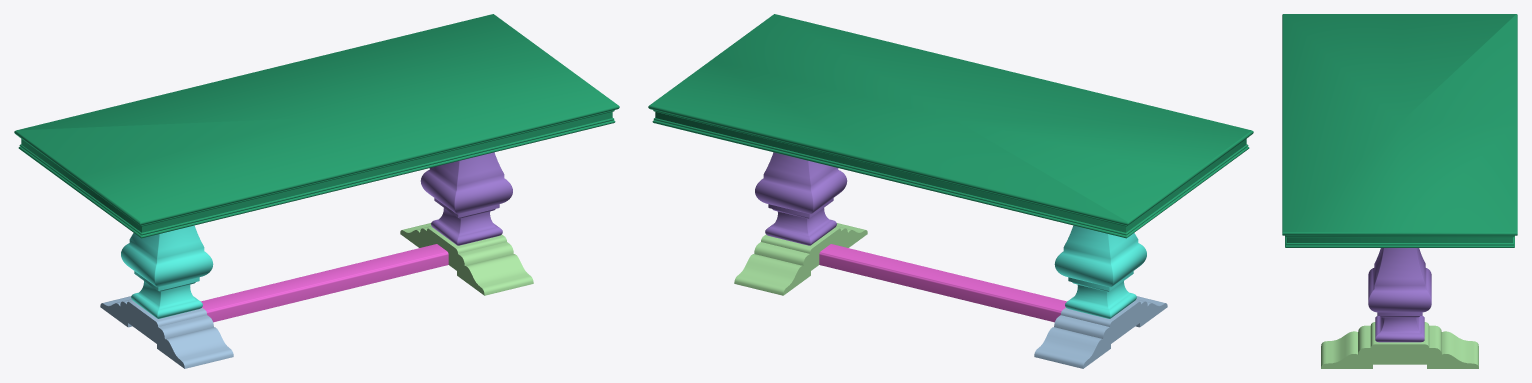
The picture shows the model from 3 angles, left to right: view 1: azimuth 30°, elevation 25°; view 2: azimuth 150°, elevation 25°; view 3: azimuth 270°, elevation 25°; orthographic projection. The views are drawn at different scales.
Parts seen in each view (by area): view 1: Object_2.285, Object_2.095, Object_2.048, Object_2.082, Object_2, Object_2.015; view 2: Object_2.285, Object_2.095, Object_2.048, Object_2.082, Object_2, Object_2.015; view 3: Object_2.285, Object_2.082, Object_2.015.
Part boxes in pixels (x1,y1,x2,y2): Object_2.285: (14, 14, 619, 238); Object_2.095: (201, 244, 448, 322); Object_2.048: (121, 225, 213, 318); Object_2.082: (420, 152, 512, 245); Object_2: (100, 296, 233, 368); Object_2.015: (400, 223, 533, 295); Object_2.285: (648, 14, 1253, 238); Object_2.095: (819, 244, 1066, 322); Object_2.048: (1054, 225, 1146, 318); Object_2.082: (755, 152, 847, 245); Object_2: (1034, 296, 1167, 368); Object_2.015: (734, 223, 867, 295); Object_2.285: (1282, 14, 1517, 247); Object_2.082: (1368, 248, 1431, 342); Object_2.015: (1321, 322, 1478, 368).
Size of the model in its own units: 1 by 0.3539 by 0.4545.
